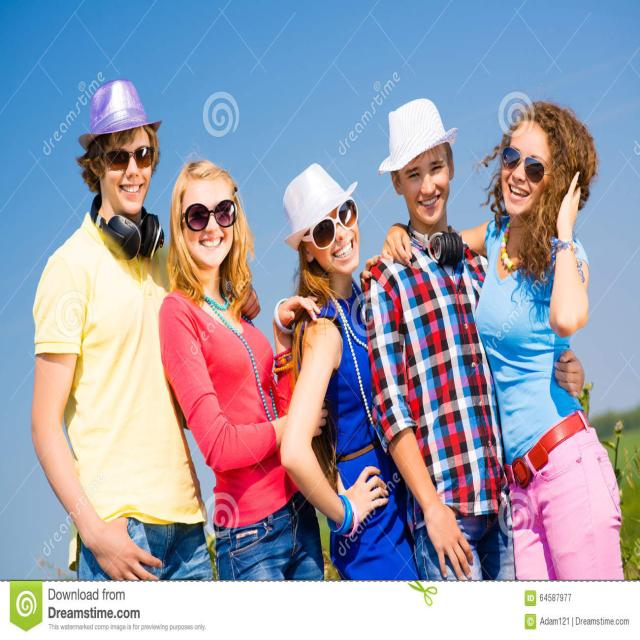hat: (76, 80, 163, 211), (379, 101, 459, 222), (284, 165, 361, 275)
head: (174, 166, 244, 270), (498, 116, 564, 215)
